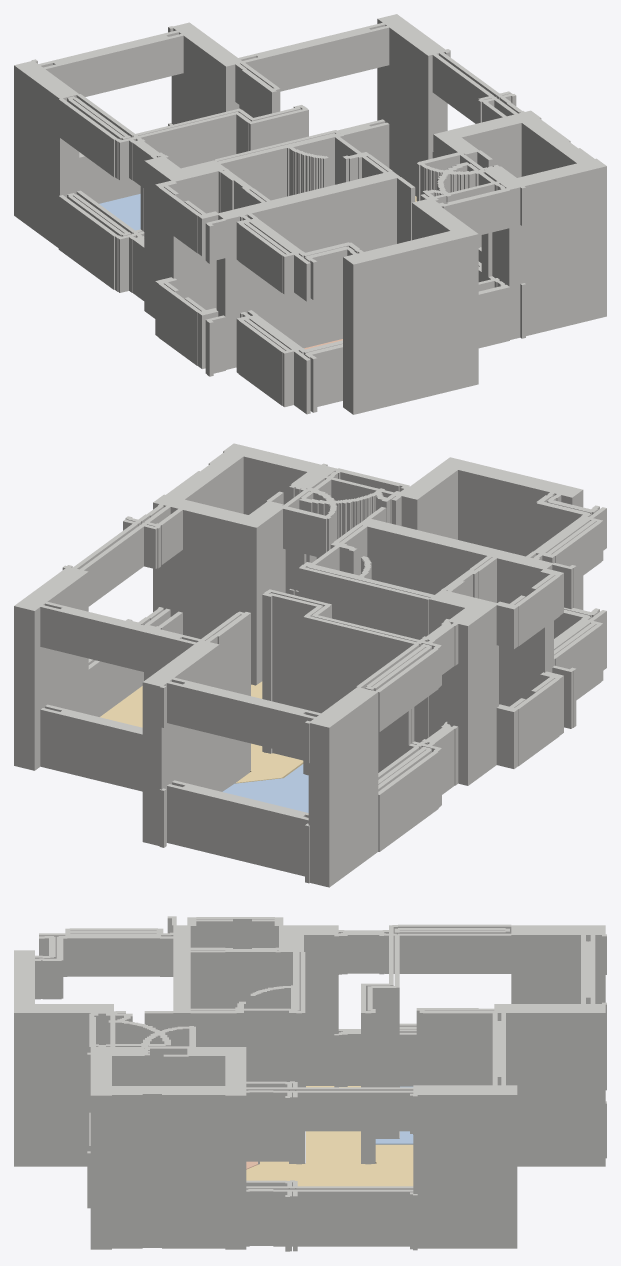
3 views of the same model, one above another, from view 1: azimuth 30°, elevation 25°; view 2: azimuth 150°, elevation 25°; view 3: azimuth 270°, elevation 25° (orthographic). The views are drawn at different scales.
Visible parts, largest first — view 1: walls, room:bedroom:0; view 2: walls, room:living:1, room:bedroom:0; view 3: walls, room:living:1.
Part boxes in pixels (x1,y1,x2,y2): walls: (14, 14, 606, 414); room:bedroom:0: (99, 194, 140, 230); walls: (14, 443, 606, 887); room:living:1: (100, 681, 303, 783); room:bedroom:0: (222, 764, 308, 812); walls: (14, 916, 606, 1251); room:living:1: (246, 1086, 413, 1186).
Size of the model in its own units: 7.1 by 2.8 by 9.79.
